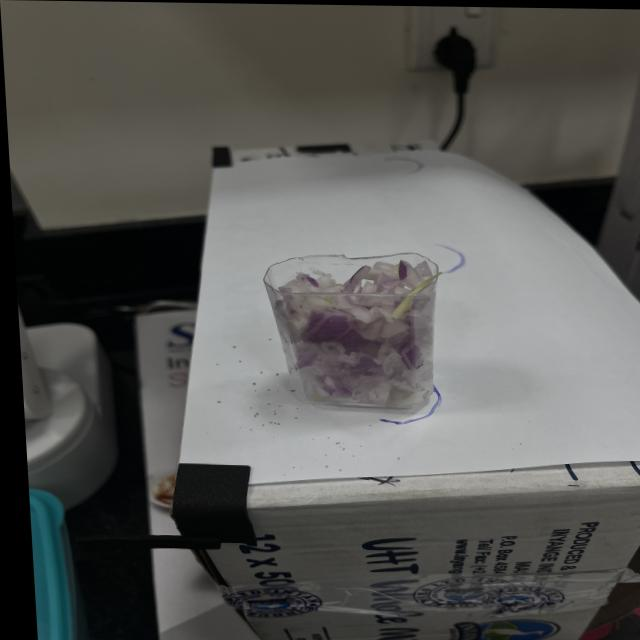sliced_onions: (274, 257, 437, 408)
